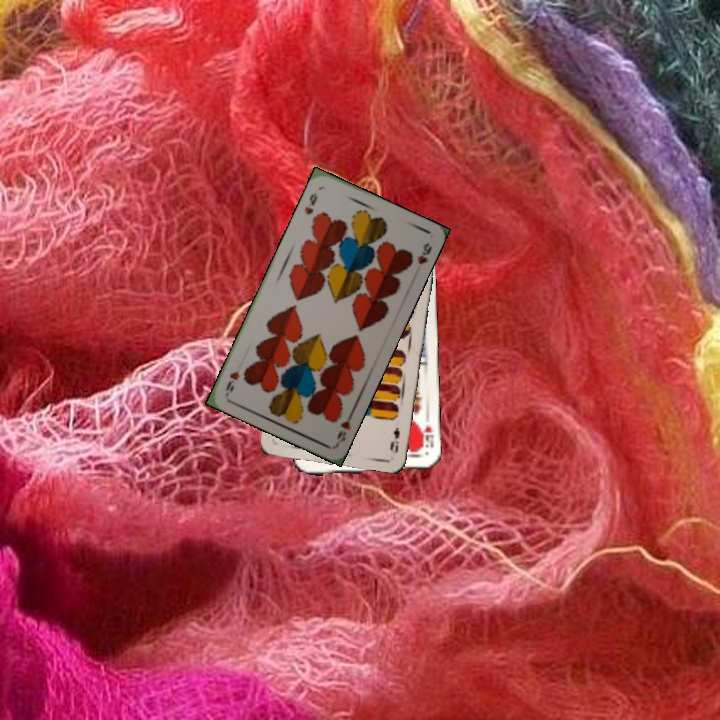E9: (386, 423, 403, 455)
H9: (333, 408, 356, 444), (300, 189, 320, 217)
HK: (416, 422, 436, 453)
